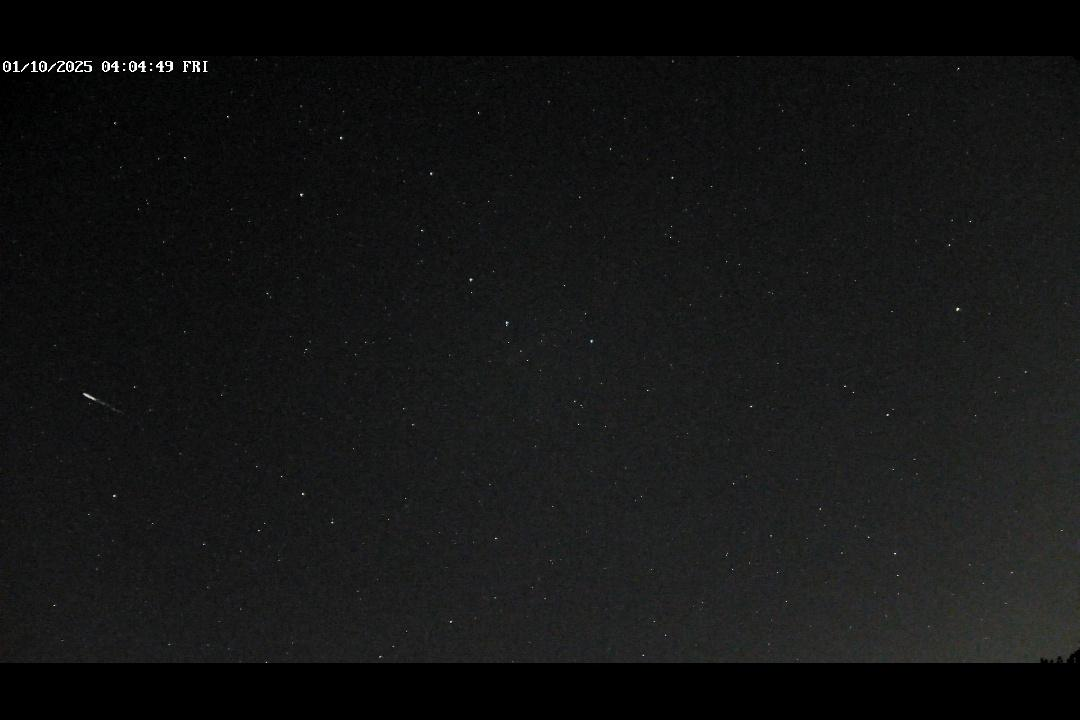meteorite: (82, 390, 126, 415)
